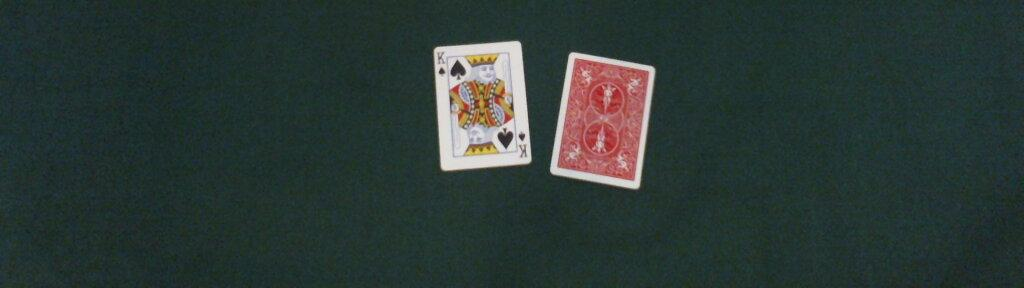back: (548, 52, 657, 190)
king: (432, 41, 534, 170)
